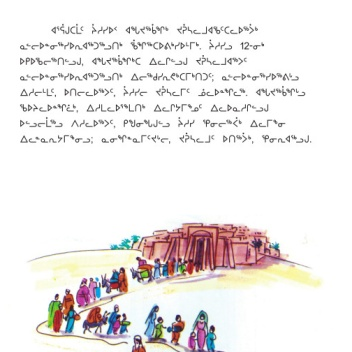inuktitut: (17, 130, 313, 145), (18, 84, 306, 99), (17, 68, 301, 83), (18, 37, 266, 53), (18, 99, 270, 114), (17, 116, 286, 129), (17, 52, 249, 67), (47, 21, 259, 37)
